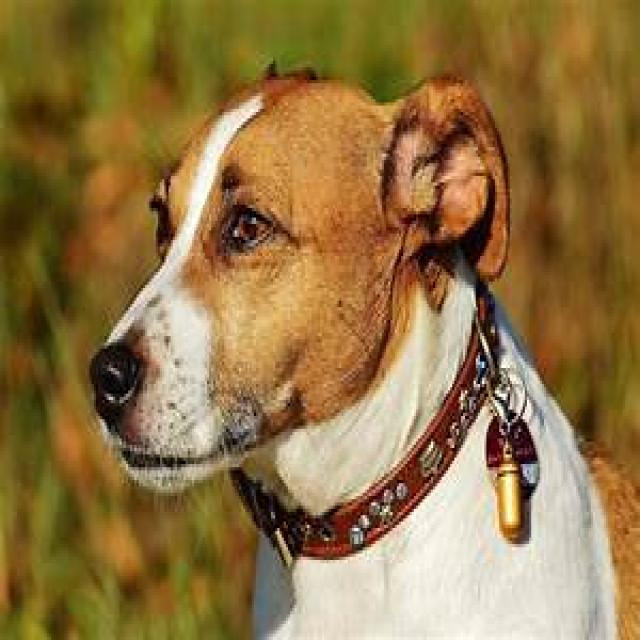dog: (87, 54, 638, 637)
